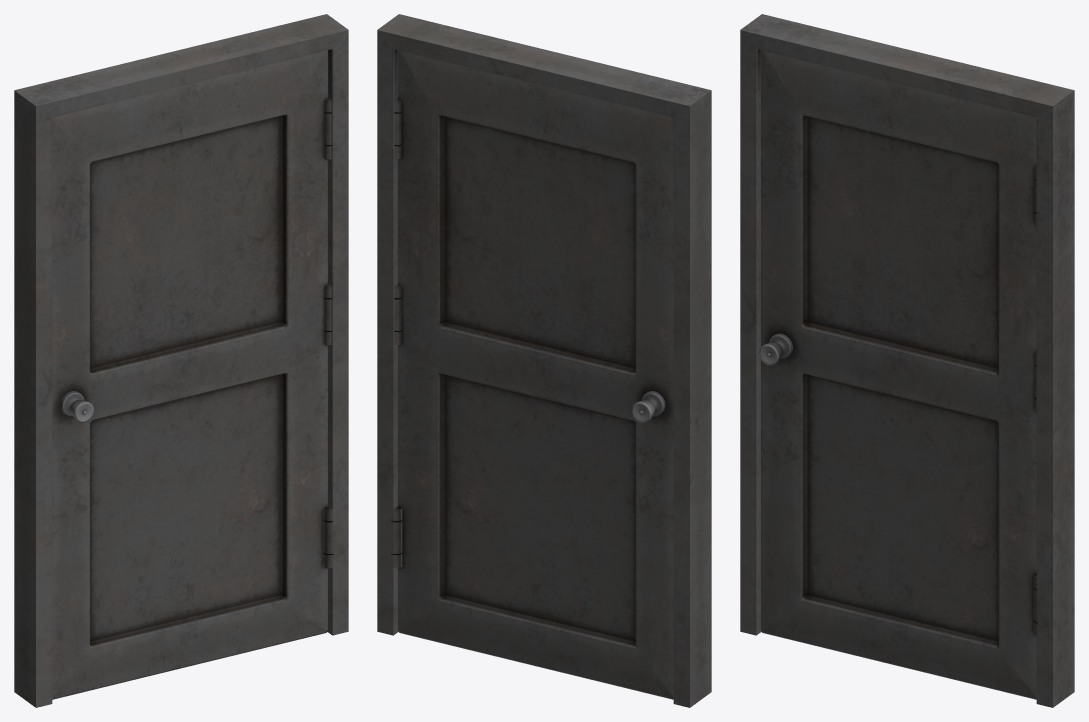
Rendered from Steel_Door_2_A.glb.
The picture shows the model from 3 angles, left to right: view 1: azimuth 30°, elevation 25°; view 2: azimuth 150°, elevation 25°; view 3: azimuth 330°, elevation 25°; orthographic projection.
Parts seen in each view (by area): view 1: Door_Base, Door_Frame; view 2: Door_Base, Door_Frame; view 3: Door_Base, Door_Frame.
Boxes of the visible parts, x1,y1,x2,y2 form: Door_Base: [52, 50, 332, 699]; Door_Frame: [14, 14, 348, 707]; Door_Base: [393, 50, 673, 699]; Door_Frame: [377, 14, 711, 707]; Door_Base: [760, 50, 1036, 699]; Door_Frame: [740, 14, 1074, 707].
Size of the model in its own units: 1.12 by 2.05 by 0.2657.
Materials: 1 (1 with a texture image).
